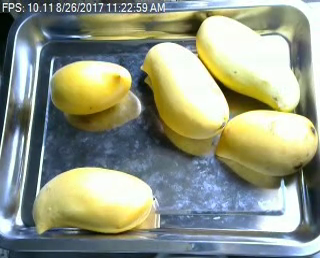Mango: (198, 14, 300, 112), (35, 165, 153, 236), (145, 41, 228, 138), (219, 109, 316, 174), (50, 60, 132, 113)
